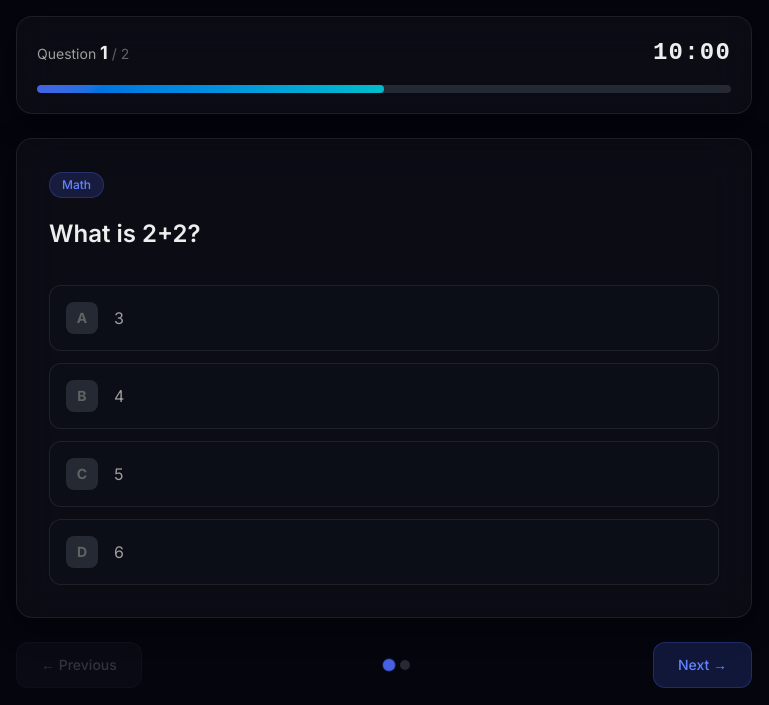
Test: QuizEngine Component › can navigate to the next question
The image size is (769, 705).
Click the button "Next →": point(702, 665) x1=653 y1=642 x2=752 y2=688
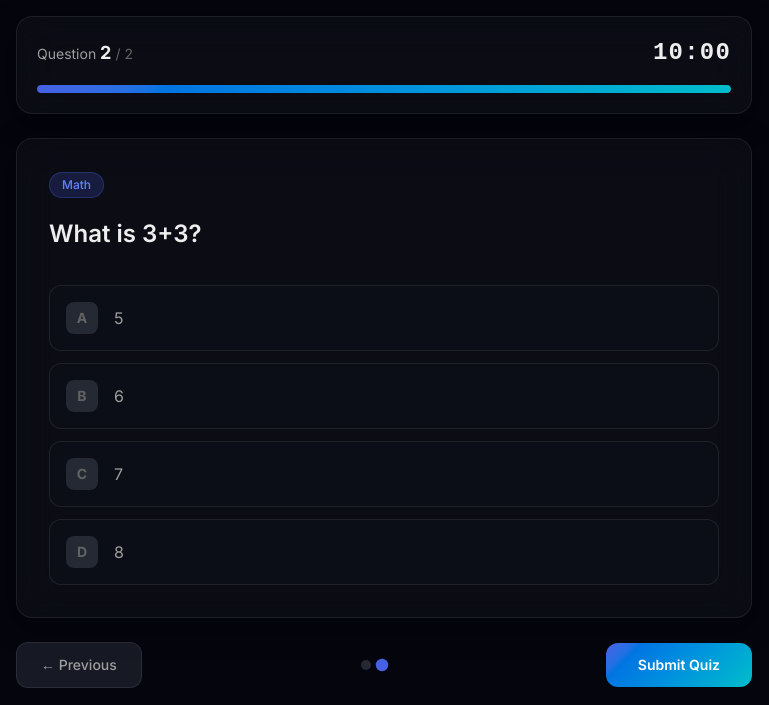
Expected: the heading "What is 3+3?" is shown, x1=49 y1=219 x2=202 y2=248
Expected: the text "2" is shown, x1=100 y1=42 x2=111 y2=63
